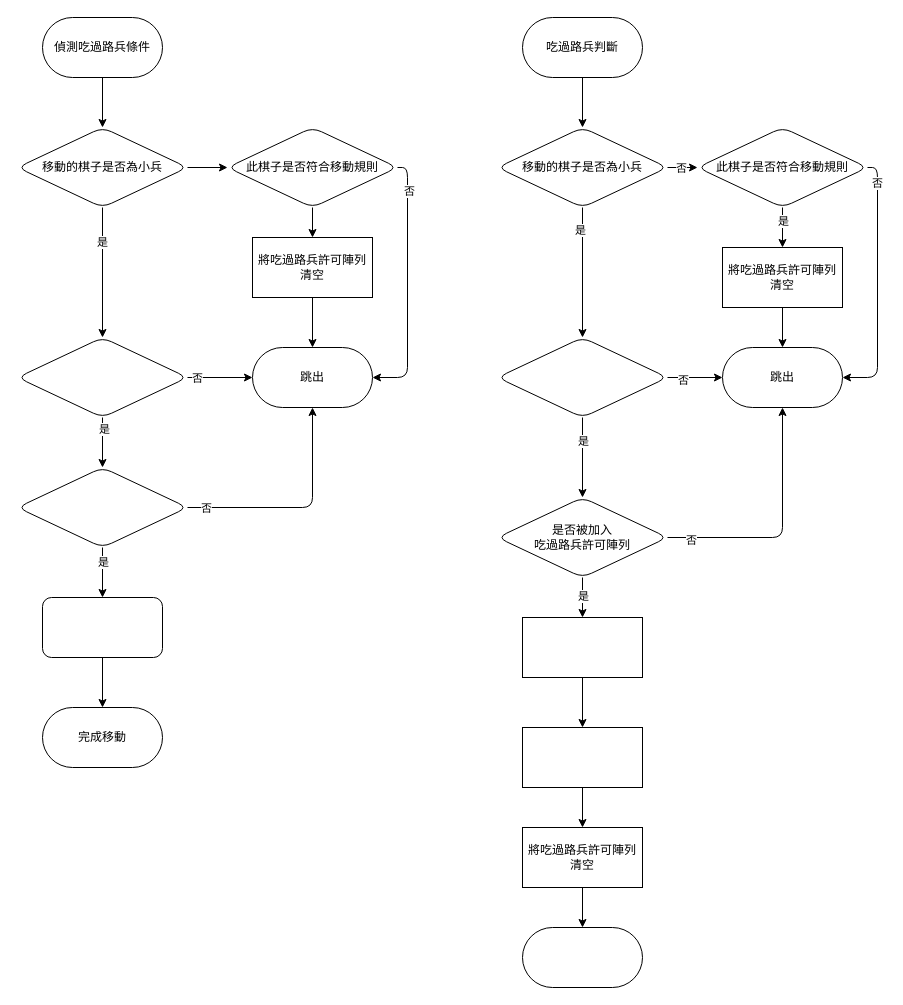
Image size: 903x1005. Some labels were removed from this diagram. Here are the shapes that lost their labels. From the top down, the centre of each, then its label:
At [102,377]: "是否移動兩格".
At [582,377]: "是否向右前或左前移動".
At [102,507]: "檢查兩側是否有小兵".
At [102,627]: "將對方小兵記錄在 吃過路兵許可陣列".
At [582,647]: "將對方小兵移除".
At [582,757]: "移動".
At [582,957]: "結束".
